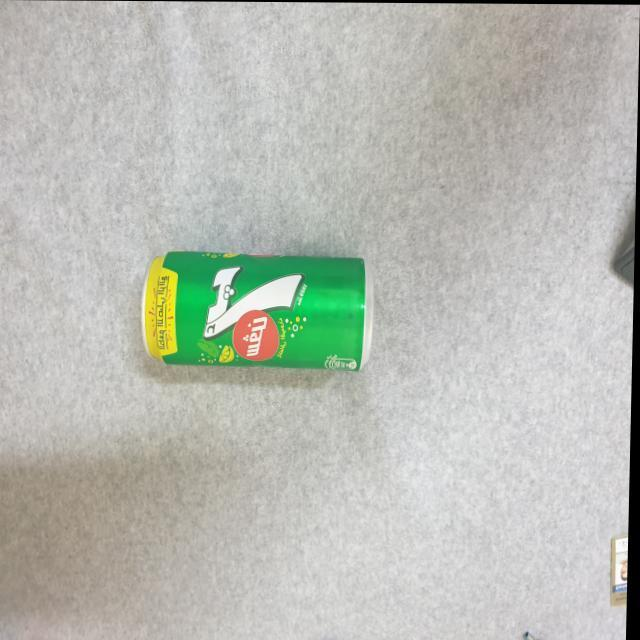trash: (136, 245, 384, 378)
